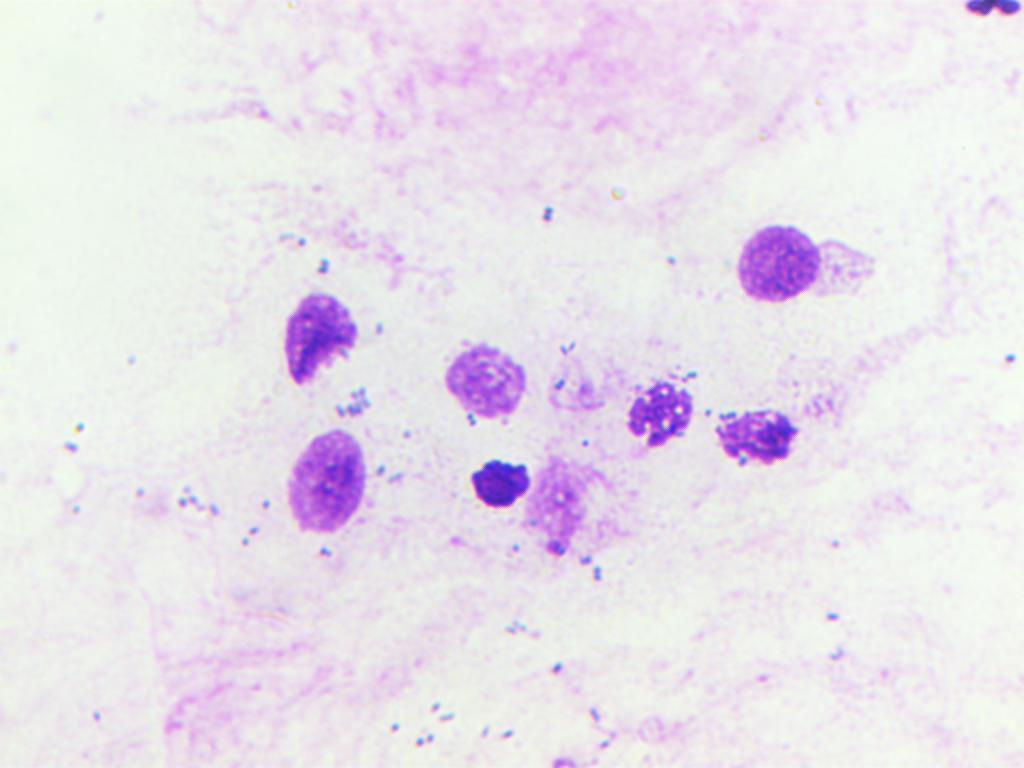artifact: (251, 278, 386, 402), (711, 374, 842, 493), (436, 336, 541, 435), (617, 355, 711, 459), (450, 451, 535, 534)
epithelial: (264, 415, 405, 549), (720, 198, 833, 313)
